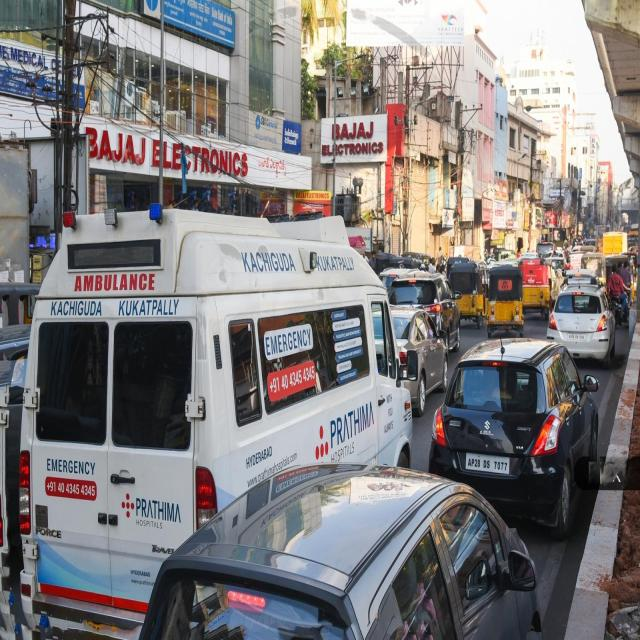autorickshaw: (488, 265, 524, 337)
car: (140, 464, 541, 640), (430, 338, 599, 538), (391, 307, 449, 416), (389, 271, 460, 350), (546, 286, 615, 367)
emergency: (21, 209, 412, 634)
